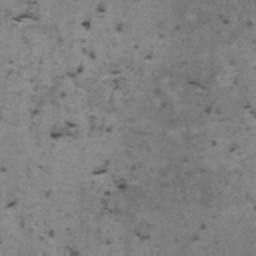Oxide scale of temperature system: (31, 3, 256, 256), (0, 165, 20, 210), (188, 220, 207, 242), (10, 9, 36, 22), (221, 18, 253, 28)
